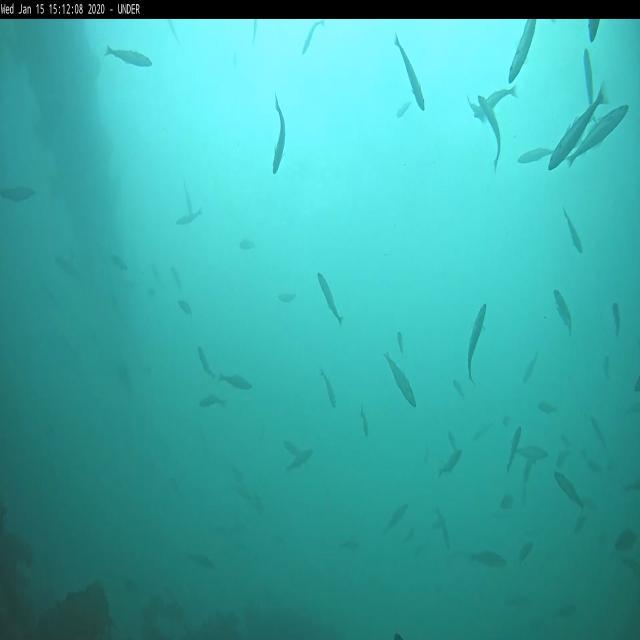fish: (548, 82, 608, 169), (566, 102, 630, 172), (392, 32, 426, 112), (478, 94, 501, 172), (384, 352, 416, 408), (508, 19, 536, 82), (466, 302, 486, 387), (474, 84, 517, 120), (317, 274, 343, 326), (104, 43, 152, 70), (554, 470, 586, 510), (272, 94, 286, 178), (582, 49, 598, 122), (562, 206, 584, 253), (383, 504, 410, 542), (554, 288, 573, 338), (301, 21, 326, 57), (614, 521, 639, 554), (512, 440, 548, 462), (433, 506, 451, 550), (286, 446, 312, 474), (469, 550, 507, 568), (1, 186, 36, 205), (219, 372, 252, 392), (439, 450, 462, 478), (516, 146, 556, 162), (320, 370, 336, 410), (522, 348, 538, 387), (508, 426, 520, 476), (198, 346, 214, 379), (176, 210, 200, 230), (183, 184, 194, 224), (176, 298, 194, 321), (610, 299, 620, 337), (586, 21, 601, 44), (360, 406, 370, 437), (278, 288, 296, 304), (538, 398, 554, 415), (200, 398, 226, 408)
